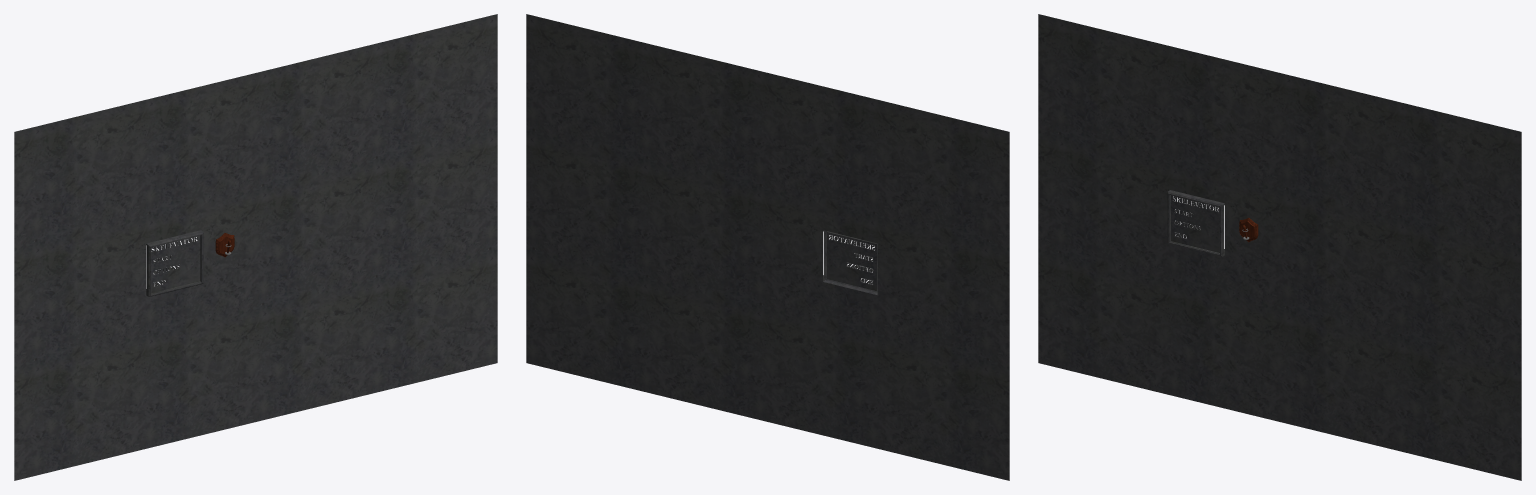
File: StartScreen_Wall.fbx
3 renders of one model, left to right at view 1: azimuth 30°, elevation 25°; view 2: azimuth 150°, elevation 25°; view 3: azimuth 330°, elevation 25°, orthographic.
Parts seen in each view (by area): view 1: Startscreen_wall; view 2: Startscreen_wall; view 3: Startscreen_wall.
Boxes of the visible parts, x1=… form: Startscreen_wall: x1=14, y1=14, x2=497, y2=480; Startscreen_wall: x1=526, y1=14, x2=1009, y2=480; Startscreen_wall: x1=1038, y1=14, x2=1521, y2=480.
Size of the model in its own units: 75.77 by 52.31 by 1.52.
